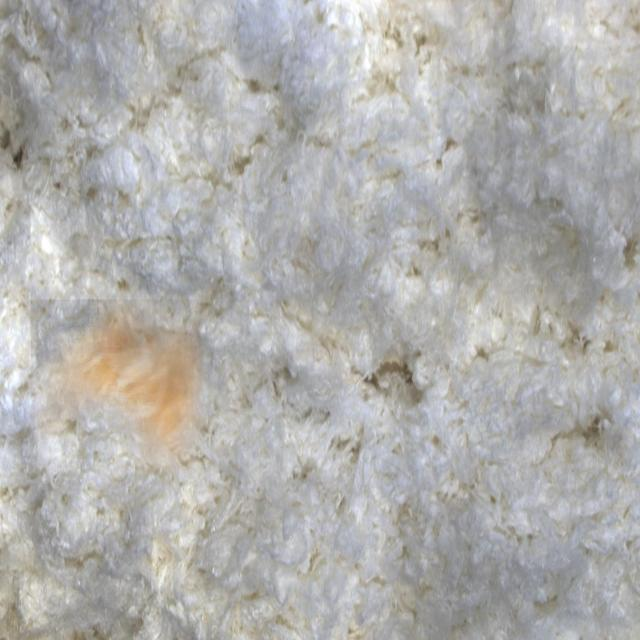dust: (31, 300, 203, 474)
